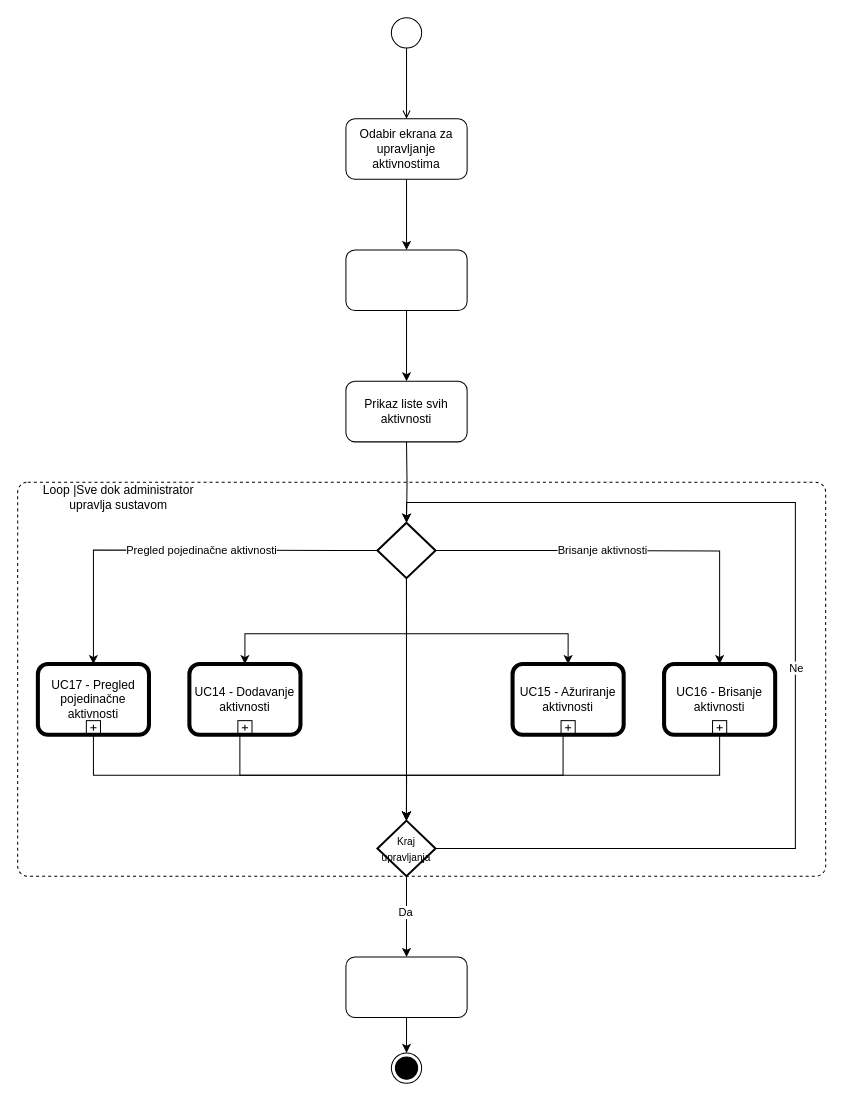
Image size: 843x1101. Some labels were removed from this diagram. Each missing label, with the centre of its shape:
Dohvat svih aktivnosti iz baze podataka: point (406, 280)
Odabir akcije: point (406, 550)
Završetak upravljanja aktivnostima: point (406, 987)
